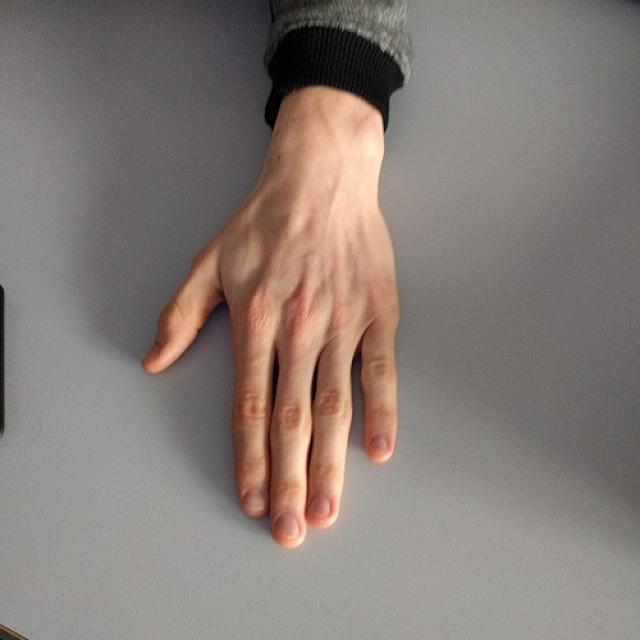paper: (141, 190, 403, 544)
